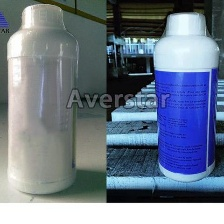insecticide: (3, 2, 81, 197), (151, 10, 221, 184)
